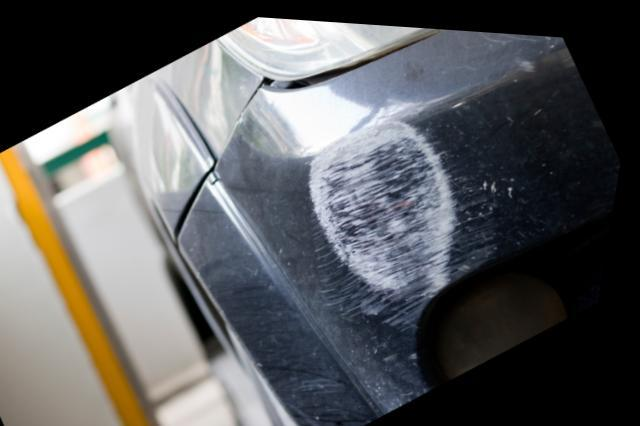scratch: (308, 102, 505, 341)
